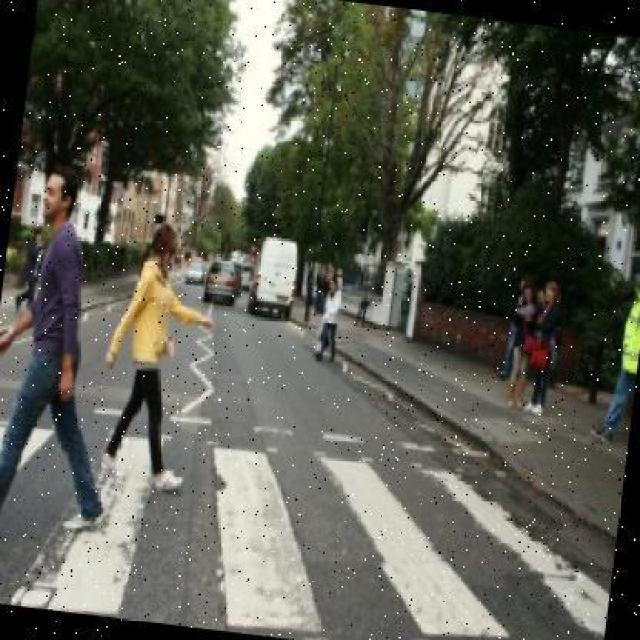Person: (0, 160, 149, 557), (96, 222, 210, 490), (523, 275, 566, 417), (500, 277, 542, 414)
